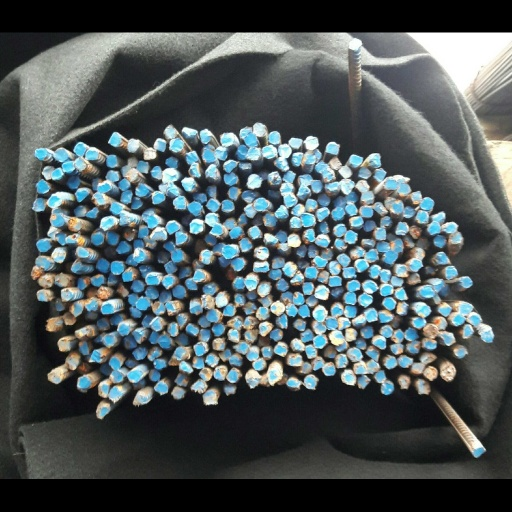dipstick: (440, 365, 456, 382), (35, 179, 50, 194), (147, 346, 162, 361), (189, 219, 204, 234), (304, 135, 319, 150), (347, 347, 362, 362), (423, 324, 438, 339), (202, 391, 218, 405), (283, 261, 297, 277), (253, 259, 269, 273), (382, 250, 398, 264), (404, 327, 420, 341), (75, 188, 90, 202), (69, 302, 83, 317), (65, 355, 79, 370), (96, 404, 110, 419), (66, 175, 81, 189), (163, 124, 177, 139), (169, 138, 184, 152), (191, 379, 206, 393), (220, 132, 234, 147), (270, 302, 285, 316), (274, 342, 288, 357), (262, 212, 277, 226), (279, 182, 293, 197), (262, 144, 276, 159), (301, 212, 315, 227), (302, 229, 316, 244), (334, 353, 348, 368), (315, 285, 329, 300), (315, 207, 329, 222), (366, 359, 380, 374), (340, 179, 354, 194), (441, 332, 456, 346), (423, 366, 438, 380), (151, 228, 167, 241), (246, 147, 262, 160), (67, 217, 81, 231), (92, 192, 106, 206), (133, 346, 147, 360), (116, 240, 130, 254), (105, 231, 119, 245), (100, 217, 114, 231), (73, 142, 87, 156), (98, 180, 112, 194), (153, 138, 167, 152), (188, 163, 202, 177), (188, 201, 202, 215), (175, 372, 189, 386), (174, 347, 188, 361), (200, 250, 214, 264), (239, 238, 253, 252), (244, 315, 258, 329), (244, 330, 258, 344), (247, 174, 261, 188), (236, 340, 250, 354), (300, 281, 314, 295), (287, 233, 301, 247), (275, 205, 289, 219), (283, 193, 297, 207), (253, 122, 267, 136), (291, 203, 305, 217), (316, 234, 330, 248), (336, 253, 350, 267), (364, 308, 378, 322), (372, 336, 386, 350), (358, 293, 372, 307), (50, 213, 65, 226), (47, 371, 62, 384), (53, 148, 68, 161), (181, 177, 196, 190), (235, 145, 248, 160), (267, 369, 280, 384), (304, 375, 317, 390), (298, 174, 313, 187), (362, 280, 377, 293), (420, 197, 435, 210), (416, 381, 431, 394), (458, 302, 473, 315), (42, 166, 55, 180), (32, 198, 46, 211), (47, 195, 61, 208), (52, 249, 66, 262), (90, 273, 104, 286), (62, 312, 76, 325), (109, 370, 123, 383), (154, 381, 168, 394), (171, 386, 185, 399), (132, 330, 146, 343), (151, 316, 164, 330), (136, 297, 150, 310), (166, 302, 179, 316), (145, 286, 159, 299), (162, 275, 175, 289), (172, 285, 186, 298), (108, 132, 121, 146), (127, 138, 140, 152), (125, 168, 139, 181), (174, 231, 188, 244), (151, 191, 165, 204), (135, 183, 149, 196), (142, 147, 156, 160), (164, 168, 177, 182), (165, 156, 179, 169), (179, 361, 193, 374), (205, 354, 219, 367), (203, 283, 217, 296), (206, 199, 220, 212), (205, 212, 218, 226), (222, 245, 236, 258), (231, 258, 245, 271), (202, 149, 216, 162), (199, 129, 212, 143), (227, 186, 241, 199), (255, 247, 269, 260), (261, 346, 274, 360), (276, 278, 289, 292), (268, 171, 282, 184), (279, 144, 292, 158), (282, 170, 296, 183), (305, 198, 318, 212), (330, 332, 344, 345), (344, 328, 358, 341), (344, 305, 358, 318), (274, 230, 288, 243), (328, 261, 341, 275), (315, 160, 329, 173), (389, 200, 403, 213), (434, 317, 448, 330), (36, 240, 51, 252), (35, 256, 50, 268), (36, 288, 51, 300), (91, 350, 106, 362), (182, 127, 197, 139), (263, 233, 278, 245), (382, 380, 394, 395), (398, 355, 413, 367), (419, 286, 435, 297), (55, 232, 68, 245), (91, 232, 104, 245), (85, 298, 98, 311), (57, 338, 70, 351), (77, 376, 90, 389), (103, 334, 116, 347), (110, 312, 123, 325), (127, 369, 140, 382), (152, 302, 165, 315), (131, 280, 144, 293), (110, 261, 123, 274), (105, 154, 118, 167), (166, 221, 179, 234), (164, 260, 177, 273), (136, 161, 149, 174), (150, 166, 163, 179), (185, 151, 198, 164), (173, 196, 186, 209), (185, 324, 198, 337), (214, 367, 227, 380), (226, 369, 239, 382), (215, 294, 228, 307), (221, 199, 234, 212), (206, 310, 219, 323), (211, 323, 224, 336), (229, 354, 242, 367), (215, 147, 228, 160), (223, 160, 236, 173), (254, 197, 267, 210), (252, 358, 265, 371), (246, 348, 259, 361), (257, 284, 270, 297), (269, 267, 282, 280), (292, 339, 305, 352), (343, 372, 356, 385), (325, 317, 338, 330), (303, 151, 316, 164), (360, 325, 373, 338), (355, 259, 368, 272), (333, 224, 346, 237), (331, 207, 344, 220), (326, 142, 339, 155), (339, 165, 352, 178), (395, 222, 408, 235), (364, 249, 377, 262), (415, 210, 428, 223), (438, 304, 451, 317), (38, 276, 52, 288), (167, 322, 179, 336), (197, 315, 211, 327), (269, 329, 283, 341), (285, 303, 297, 317), (286, 379, 300, 391), (289, 354, 303, 366), (313, 256, 327, 268), (346, 280, 360, 292), (369, 153, 381, 167), (355, 180, 369, 192), (361, 192, 375, 204), (395, 288, 409, 300), (376, 240, 390, 252), (433, 235, 447, 247), (416, 306, 430, 318), (406, 341, 420, 353), (435, 253, 450, 264), (34, 147, 47, 159), (51, 167, 63, 180), (60, 289, 73, 301), (74, 204, 86, 217), (133, 393, 146, 405), (148, 368, 160, 381), (158, 335, 170, 348), (62, 161, 75, 173), (106, 170, 119, 182), (120, 190, 132, 203), (147, 215, 159, 228), (198, 329, 211, 341), (210, 223, 223, 235), (204, 233, 217, 245), (244, 278, 256, 291), (218, 349, 231, 361), (223, 304, 236, 316), (244, 302, 256, 315), (224, 172, 236, 185), (256, 307, 268, 320), (293, 291, 305, 304), (298, 304, 310, 317), (289, 216, 302, 228), (268, 131, 280, 144), (314, 322, 326, 335), (311, 180, 323, 193), (318, 193, 330, 206), (344, 292, 357, 304), (385, 356, 397, 369), (392, 330, 404, 343), (344, 230, 356, 243), (328, 157, 341, 169), (350, 154, 362, 167), (358, 166, 371, 178), (374, 168, 386, 181), (380, 216, 392, 229), (383, 298, 396, 310), (379, 311, 392, 323), (396, 265, 409, 277), (410, 191, 422, 204), (413, 317, 426, 329), (423, 337, 436, 349), (481, 331, 494, 343), (459, 276, 472, 288), (76, 246, 90, 257), (76, 276, 87, 290), (99, 383, 110, 397), (128, 293, 139, 307), (229, 227, 243, 238), (289, 137, 303, 148), (342, 267, 356, 278), (353, 363, 367, 374), (397, 184, 411, 195), (86, 206, 98, 218), (75, 158, 87, 170), (118, 178, 130, 190), (171, 249, 183, 261), (192, 356, 204, 368), (185, 278, 197, 290), (193, 270, 205, 282), (248, 227, 260, 239), (304, 267, 316, 279), (313, 309, 325, 321), (323, 363, 335, 375), (329, 275, 341, 287), (374, 370, 386, 382), (381, 325, 393, 337), (335, 238, 347, 250), (374, 228, 386, 240), (403, 206, 415, 218), (428, 222, 440, 234), (453, 346, 465, 358), (54, 275, 67, 286), (101, 303, 114, 314), (109, 357, 120, 370), (146, 274, 159, 285), (110, 203, 123, 214), (133, 249, 144, 262), (199, 369, 212, 380), (212, 339, 225, 350), (272, 257, 285, 268), (295, 318, 306, 331), (360, 206, 373, 217), (369, 265, 380, 278), (380, 269, 391, 282), (379, 285, 392, 296), (409, 260, 422, 271), (391, 276, 404, 287), (462, 325, 473, 338), (452, 315, 465, 326), (349, 216, 363, 226), (384, 179, 398, 189), (118, 323, 129, 335), (153, 358, 165, 369), (194, 344, 205, 356), (234, 277, 245, 289), (229, 329, 240, 341), (304, 346, 315, 358), (339, 317, 350, 329), (345, 204, 357, 215), (363, 220, 375, 231), (445, 266, 456, 278), (469, 315, 481, 326), (450, 232, 462, 243), (85, 150, 98, 160), (138, 225, 148, 238), (314, 336, 325, 347), (473, 447, 485, 457), (332, 306, 342, 317), (446, 222, 456, 232), (122, 272, 132, 281)
